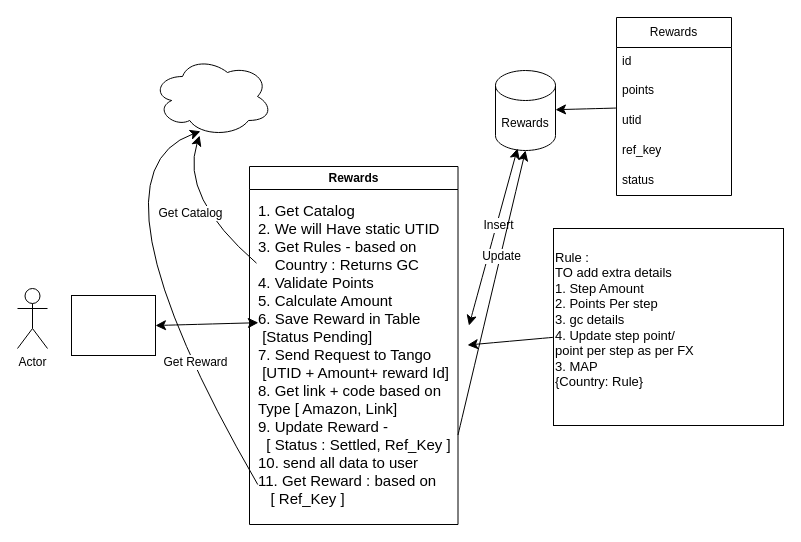
The diagram is 801 pixels wide and 542 high, and some of its shapes have lost their labels. Here are the shapes that lost their labels. From the top down, the centre of each, then its label:
the point at 212,96: Tango
the point at 113,325: Points:1000 Country: "IND"
